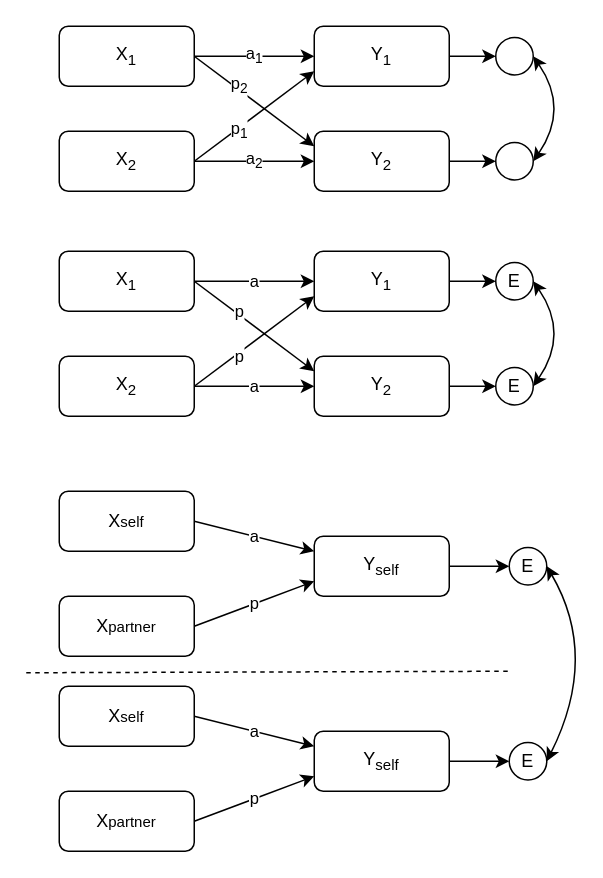
Some shapes in this 603 by 878 pixel diagram are drawn without their labels. The shapes that lost their labels are listed below. From the top down, each one's centre as x and y in pixels, then its label:
[513,55]: E 1
[513,160]: E 2
